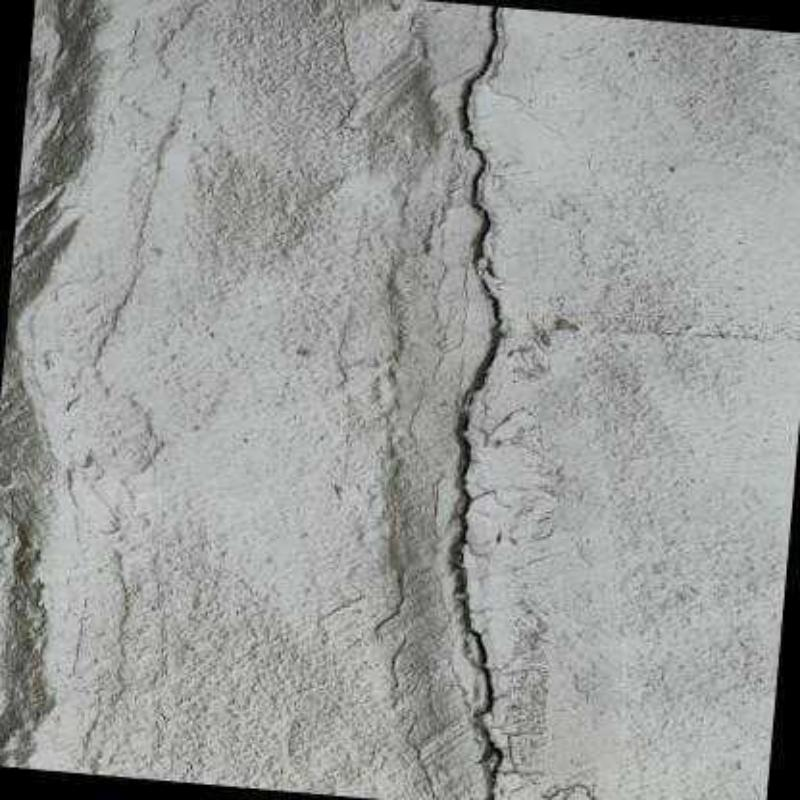pothole: (440, 6, 518, 800)
